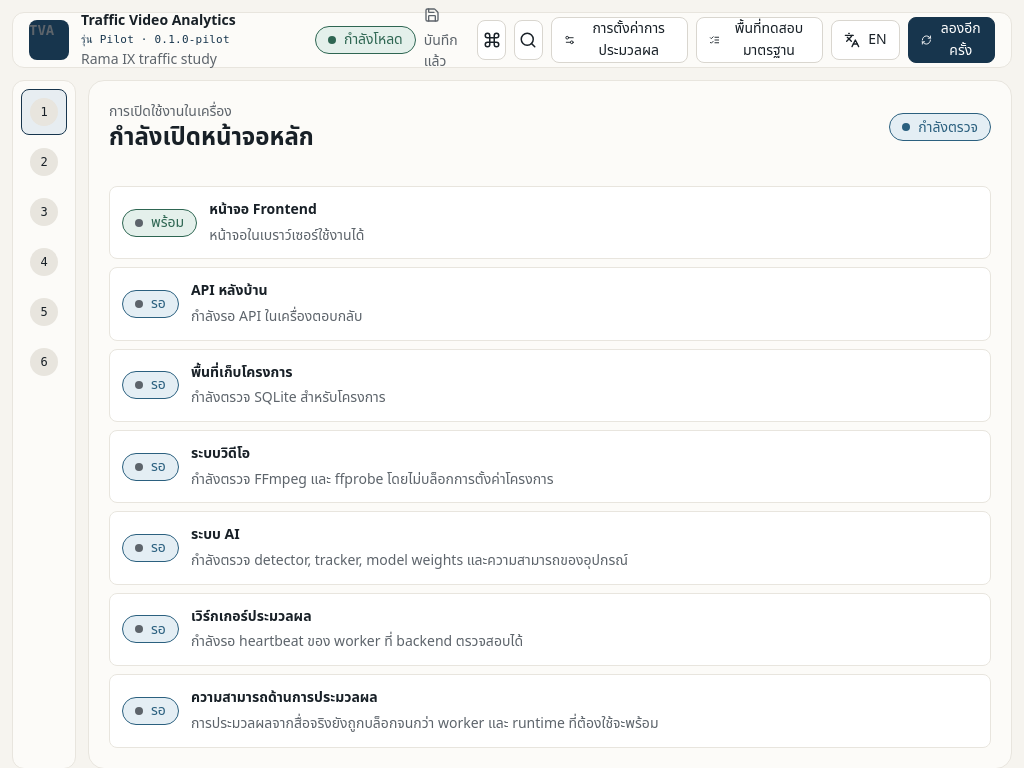
Test: API-backed shell › renders startup shell while waiting for backend readiness
This screenshot has width=1024, height=768.
What coordinates should you click on to do the following:
click the button "EN"
I would click on:
 (866, 40)
Its box is [831, 20, 900, 60].
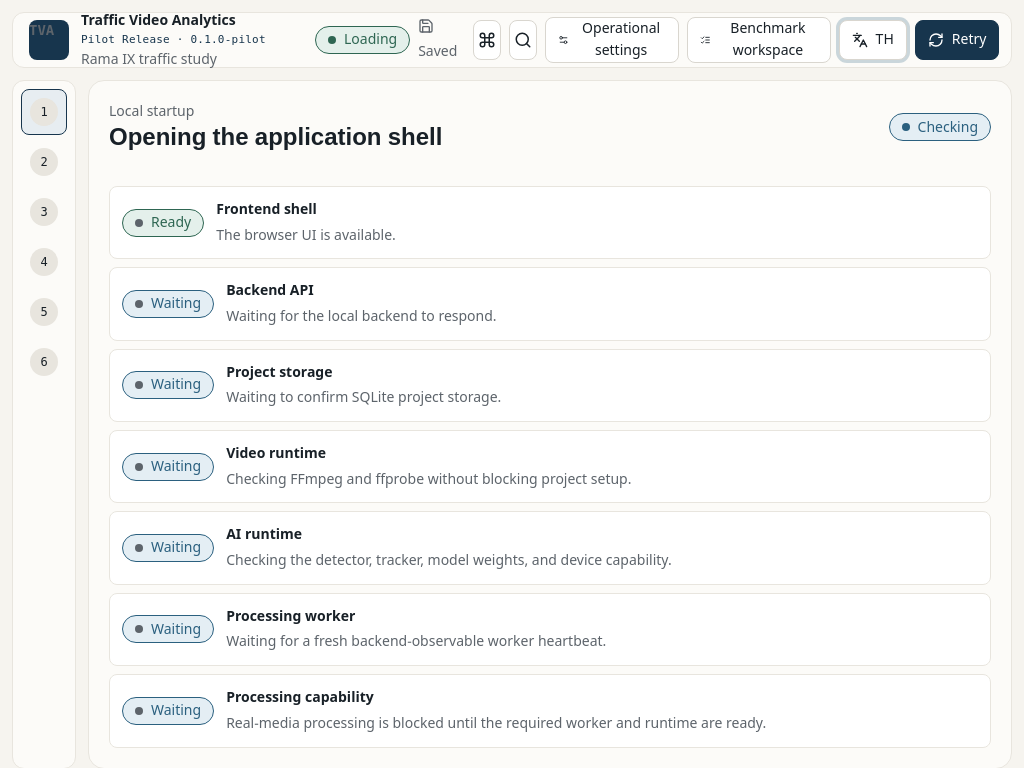
Expected: the heading "Opening the application shell" is shown, [109, 123, 442, 154]
Expected: the text "Frontend shell" is shown, [216, 199, 317, 220]
Expected: the text "Backend API" is shown, [226, 280, 314, 301]
